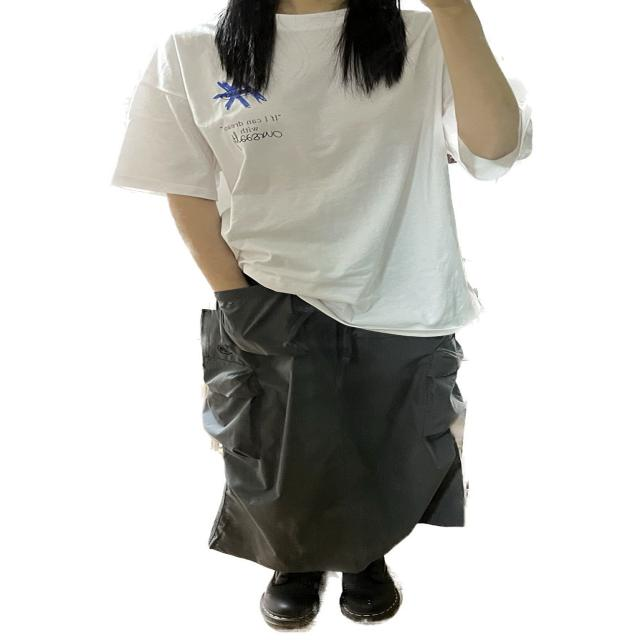shortsleeve: (112, 4, 536, 338)
skirt: (197, 274, 470, 566)
